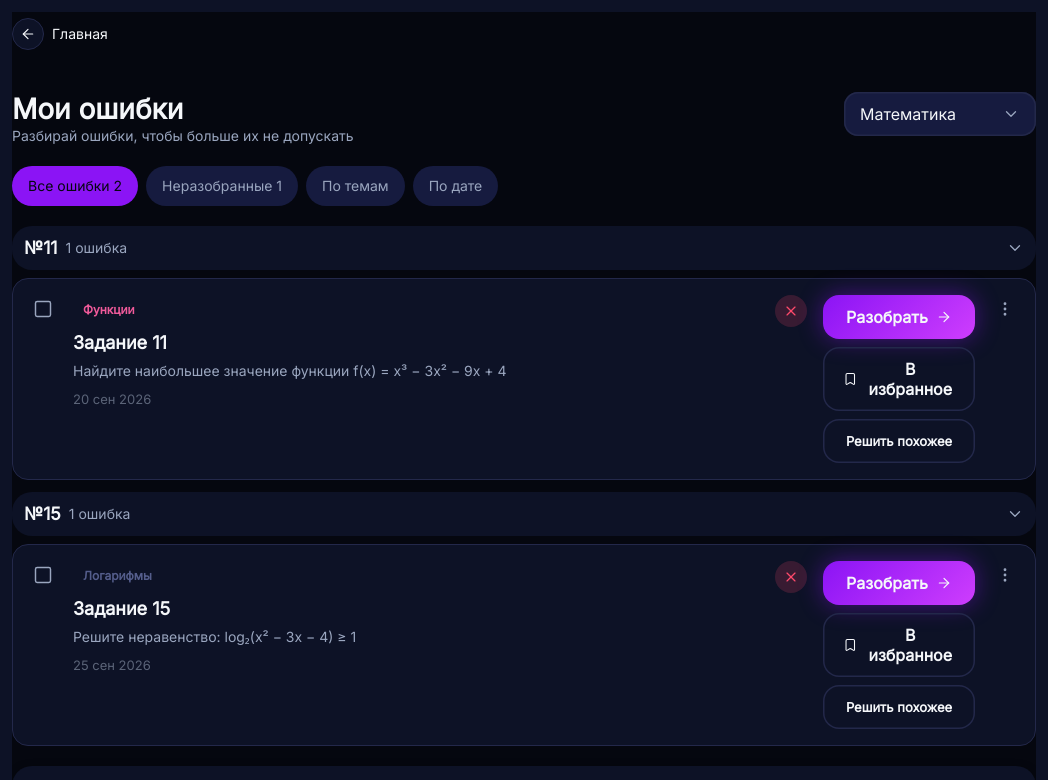
Test: MistakesDesktop › collapses and re-expands a task-number group without losing the real mistake
Expected: the text "Решите неравенство: log₂(x² − 3x − 4) ≥ 1" is shown, [73,628,356,645]
Click the button "№15 1 ошибка" at [104, 514], box [12,492,1036,536]
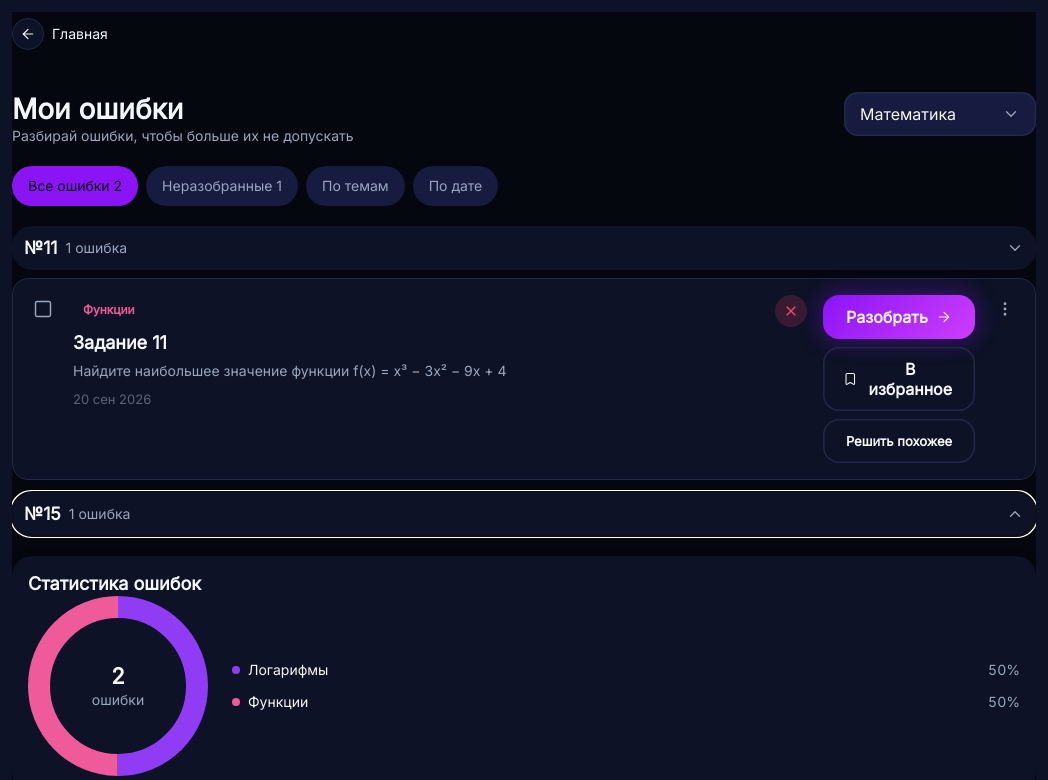
Result: the button "№15 1 ошибка" is collapsed
Result: the text "Решите неравенство: log₂(x² − 3x − 4) ≥ 1" is gone
Click the button "№15 1 ошибка" at [104, 514], box [12,492,1036,536]
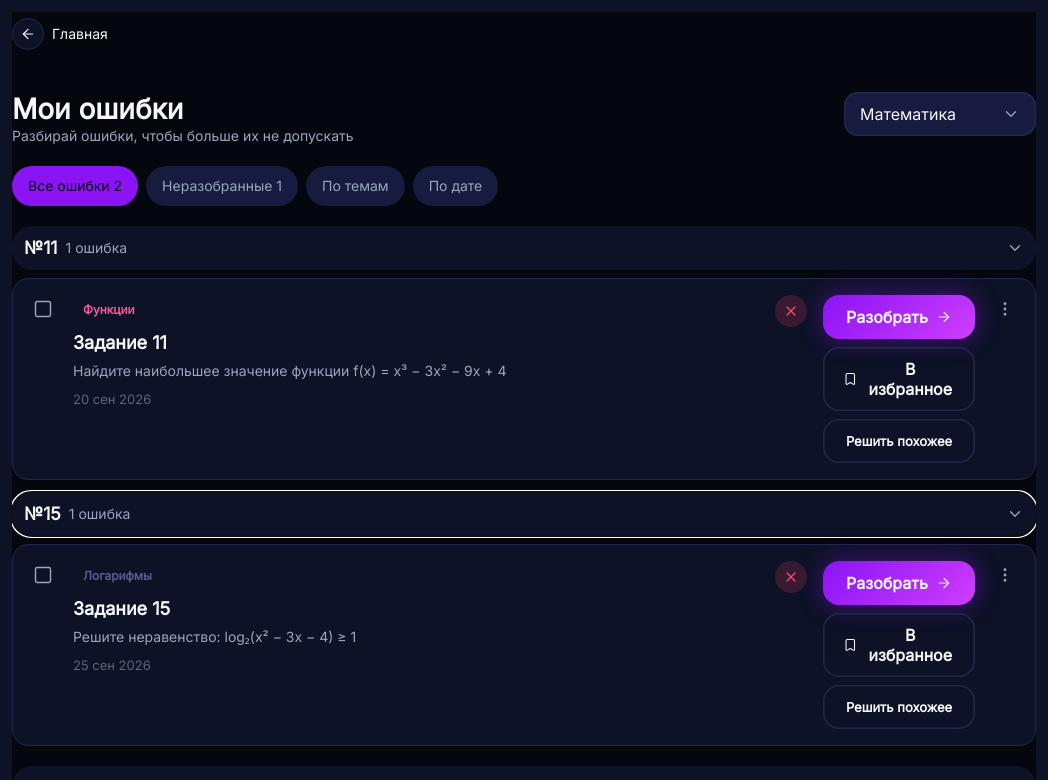
Result: the text "Решите неравенство: log₂(x² − 3x − 4) ≥ 1" is shown at [73,628,356,645]
